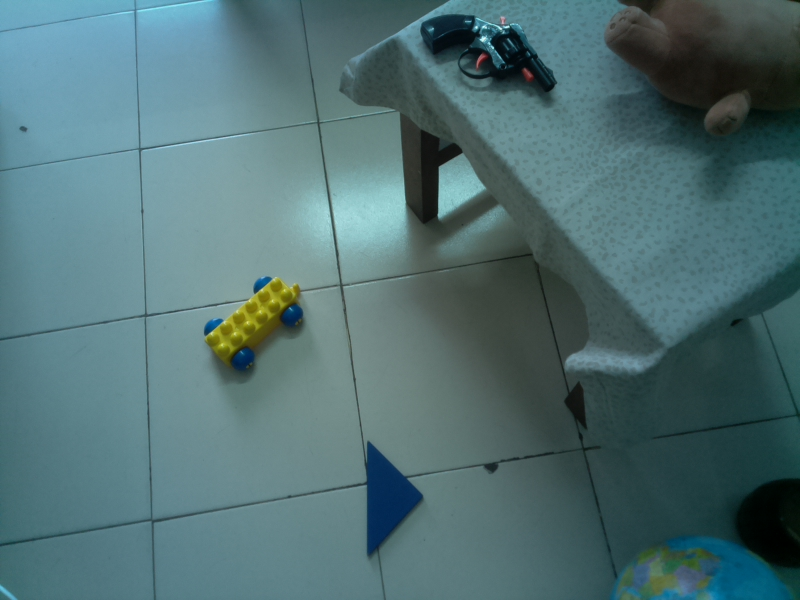Gun: (418, 7, 560, 100)
Triangle: (358, 434, 427, 563)
toy_Car: (202, 274, 311, 376)
